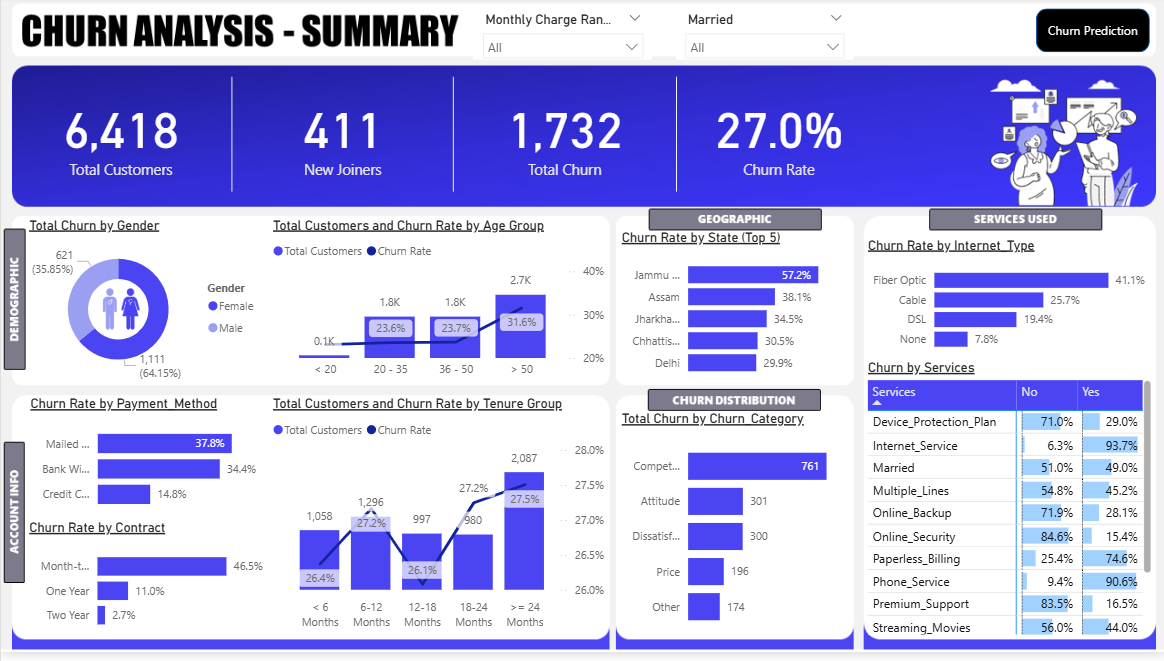

The dashboard page shown, as its layout file describes it:
{"tool":"powerbi","page":{"name":"Summary","canvas":[1280,720],"ordinal":0},"visuals":[{"type":"image","box":[93.1,308.3,77.8,68.1],"z":0},{"type":"card","fields":{"Values":["tbl_Measures.Total Customers"]},"box":[9.7,69.4,244.4,163.9],"z":1000},{"type":"card","fields":{"Values":["tbl_Measures.New Joiners"]},"box":[254.2,69.4,243.1,163.9],"z":2000},{"type":"card","fields":{"Values":["tbl_Measures.Total Churn"]},"box":[497.2,69.4,244.4,163.9],"z":3000},{"type":"card","fields":{"Values":["tbl_Measures.Churn Rate"]},"box":[741.7,69.4,226.4,163.9],"z":4000},{"type":"donutChart","fields":{"Category":["prod_churn.Gender"],"Y":["tbl_Measures.Total Churn"]},"box":[26.4,243.1,266.7,184.7],"z":5000},{"type":"lineStackedColumnComboChart","fields":{"Category":["Mapping_AgeGrp.Age Group "],"Y":["tbl_Measures.Total Customers"],"Y2":["tbl_Measures.Churn Rate"]},"box":[293.1,243.1,373.6,184.7],"z":6000},{"type":"clusteredBarChart","fields":{"Category":["prod_churn.Payment_Method"],"Y":["tbl_Measures.Churn Rate"]},"box":[27.8,438.9,265.3,136.1],"z":7000},{"type":"clusteredBarChart","fields":{"Category":["prod_churn.Contract"],"Y":["tbl_Measures.Churn Rate"]},"box":[26.4,575,266.7,131.9],"z":8000},{"type":"lineStackedColumnComboChart","fields":{"Category":["Mapping_TenureGrp.Tenure Group"],"Y":["tbl_Measures.Total Customers"],"Y2":["tbl_Measures.Churn Rate"]},"box":[293.1,438.9,373.6,263.9],"z":9000},{"type":"barChart","title":"Churn Rate by State (Top 5)","fields":{"Category":["prod_churn.State"],"Y":["tbl_Measures.Churn Rate"]},"box":[676.4,256.9,259.7,170.8],"z":10000},{"type":"clusteredBarChart","fields":{"Category":["prod_churn.Churn_Category"],"Y":["tbl_Measures.Total Churn"]},"box":[676.4,455.6,259.7,251.4],"z":11000},{"type":"clusteredBarChart","fields":{"Category":["prod_churn.Internet_Type"],"Y":["tbl_Measures.Churn Rate"]},"box":[947.2,265.3,320.8,134.7],"z":12000},{"type":"pivotTable","title":"Churn by Services","fields":{"Rows":["prod_Services.Services"],"Columns":["prod_Services.Status"],"Values":["Sum(prod_Services.Churn Status )"]},"box":[947.2,400,320.8,306.9],"z":13000},{"type":"slicer","fields":{"Values":["prod_Services.Monthly Charge Status"]},"box":[518.7,12.3,196.2,57.6],"z":14000},{"type":"slicer","fields":{"Values":["prod_churn.Married"]},"box":[741,12.3,194.9,57.6],"z":15000},{"type":"shape","box":[1136.2,13.7,124.9,48],"z":15001}]}

Visuals, with their boxes in screenshot pixels (x1, y1, x2, y2), scaled from the page's 1280x720 canvas onto the 1164x661 screenshot:
image: Rect(85, 283, 155, 346)
card - tbl_Measures.Total Customers: Rect(9, 64, 231, 214)
card - tbl_Measures.New Joiners: Rect(231, 64, 452, 214)
card - tbl_Measures.Total Churn: Rect(452, 64, 674, 214)
card - tbl_Measures.Churn Rate: Rect(674, 64, 880, 214)
donutChart - prod_churn.Gender x tbl_Measures.Total Churn: Rect(24, 223, 267, 393)
lineStackedColumnComboChart - Mapping_AgeGrp.Age Group  x tbl_Measures.Total Customers: Rect(267, 223, 606, 393)
clusteredBarChart - prod_churn.Payment_Method x tbl_Measures.Churn Rate: Rect(25, 403, 267, 528)
clusteredBarChart - prod_churn.Contract x tbl_Measures.Churn Rate: Rect(24, 528, 267, 649)
lineStackedColumnComboChart - Mapping_TenureGrp.Tenure Group x tbl_Measures.Total Customers: Rect(267, 403, 606, 645)
"Churn Rate by State (Top 5)" barChart: Rect(615, 236, 851, 393)
clusteredBarChart - prod_churn.Churn_Category x tbl_Measures.Total Churn: Rect(615, 418, 851, 649)
clusteredBarChart - prod_churn.Internet_Type x tbl_Measures.Churn Rate: Rect(861, 244, 1153, 367)
"Churn by Services" pivotTable: Rect(861, 367, 1153, 649)
slicer - prod_Services.Monthly Charge Status: Rect(472, 11, 650, 64)
slicer - prod_churn.Married: Rect(674, 11, 851, 64)
shape: Rect(1033, 13, 1147, 57)
